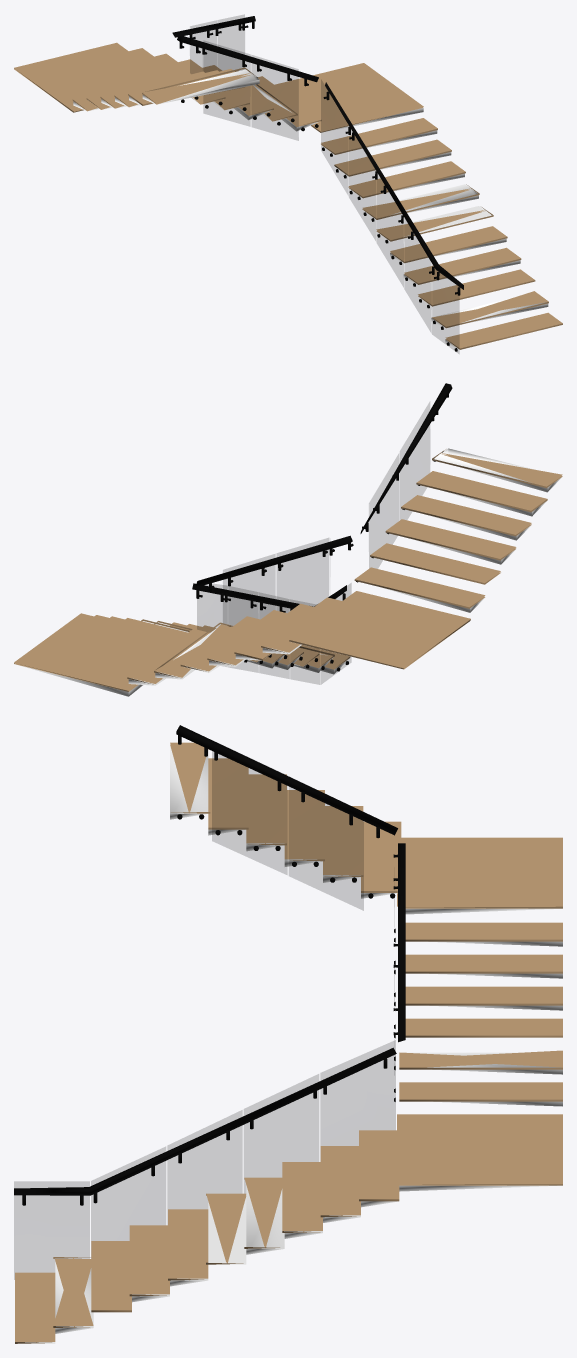
Rendered from stair_switchback.glb.
The picture shows the model from 3 angles, top to bottom: view 1: azimuth 30°, elevation 25°; view 2: azimuth 150°, elevation 25°; view 3: azimuth 270°, elevation 25°; orthographic projection. The views are drawn at different scales.
Visible parts, largest first — view 1: FINISHER STEPS3, GLASS, BASE OF THE STAIR3, SPIDERS; view 2: FINISHER STEPS3, GLASS, BASE OF THE STAIR3, SPIDERS; view 3: FINISHER STEPS3, GLASS, BASE OF THE STAIR3, SPIDERS.
Boxes of the visible parts, bbox=[...] form: FINISHER STEPS3: bbox=[14, 42, 562, 349]; GLASS: bbox=[190, 15, 458, 353]; BASE OF THE STAIR3: bbox=[73, 69, 548, 348]; SPIDERS: bbox=[172, 16, 463, 351]; FINISHER STEPS3: bbox=[14, 449, 562, 691]; GLASS: bbox=[197, 402, 429, 684]; BASE OF THE STAIR3: bbox=[18, 448, 562, 696]; SPIDERS: bbox=[192, 383, 452, 671]; FINISHER STEPS3: bbox=[15, 742, 562, 1343]; GLASS: bbox=[14, 740, 395, 1279]; BASE OF THE STAIR3: bbox=[18, 745, 562, 1343]; SPIDERS: bbox=[14, 725, 405, 1205].
Size of the model in its own units: 5.1 by 4.6 by 5.03.
